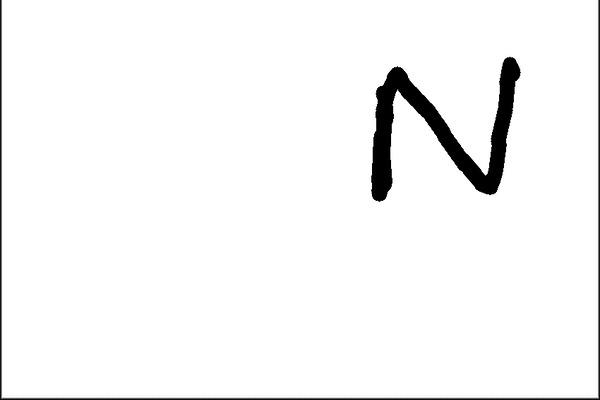N: (361, 52, 528, 206)
